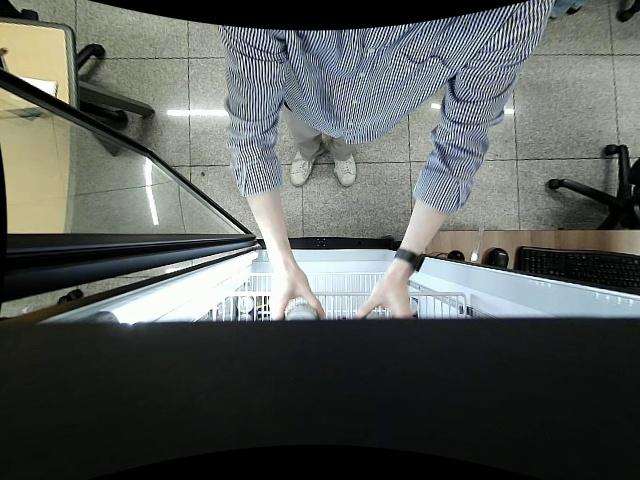00_hand: (268, 269, 326, 322), (354, 283, 414, 321)
